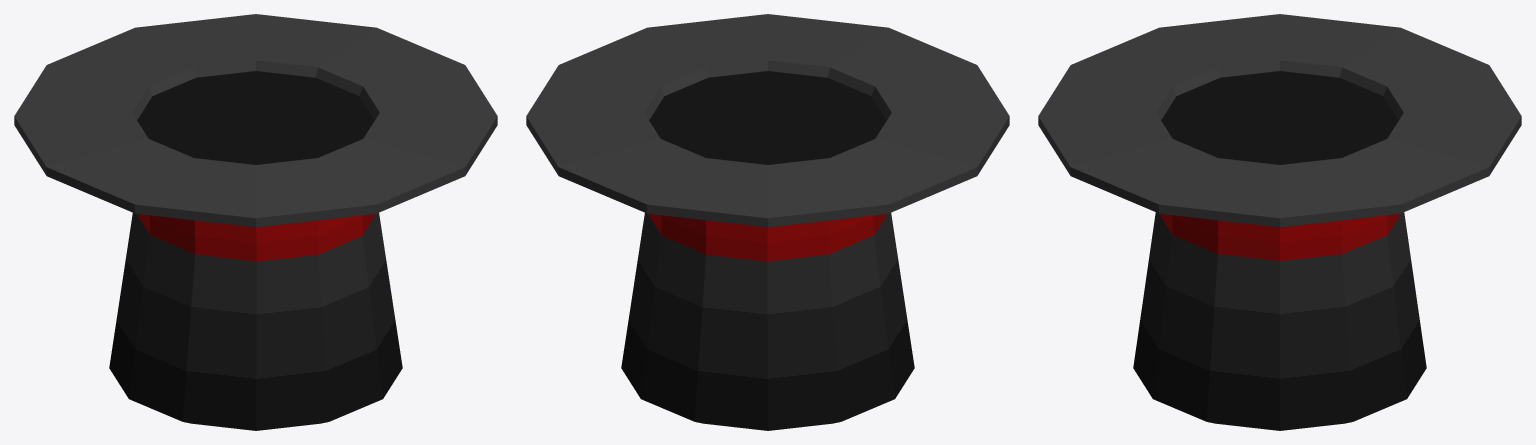
File: Hat.fbx
The picture shows the model from 3 angles, left to right: view 1: azimuth 30°, elevation 25°; view 2: azimuth 150°, elevation 25°; view 3: azimuth 270°, elevation 25°; orthographic projection.
Parts seen in each view (by area): view 1: Cylinder; view 2: Cylinder; view 3: Cylinder.
Boxes of the visible parts, x1,y1,x2,y2 form: Cylinder: (14, 14, 497, 430); Cylinder: (526, 14, 1009, 430); Cylinder: (1038, 14, 1521, 430).
Bounding box in the file's own units: 390 × 235 × 390.
1 material, 1 textured.
